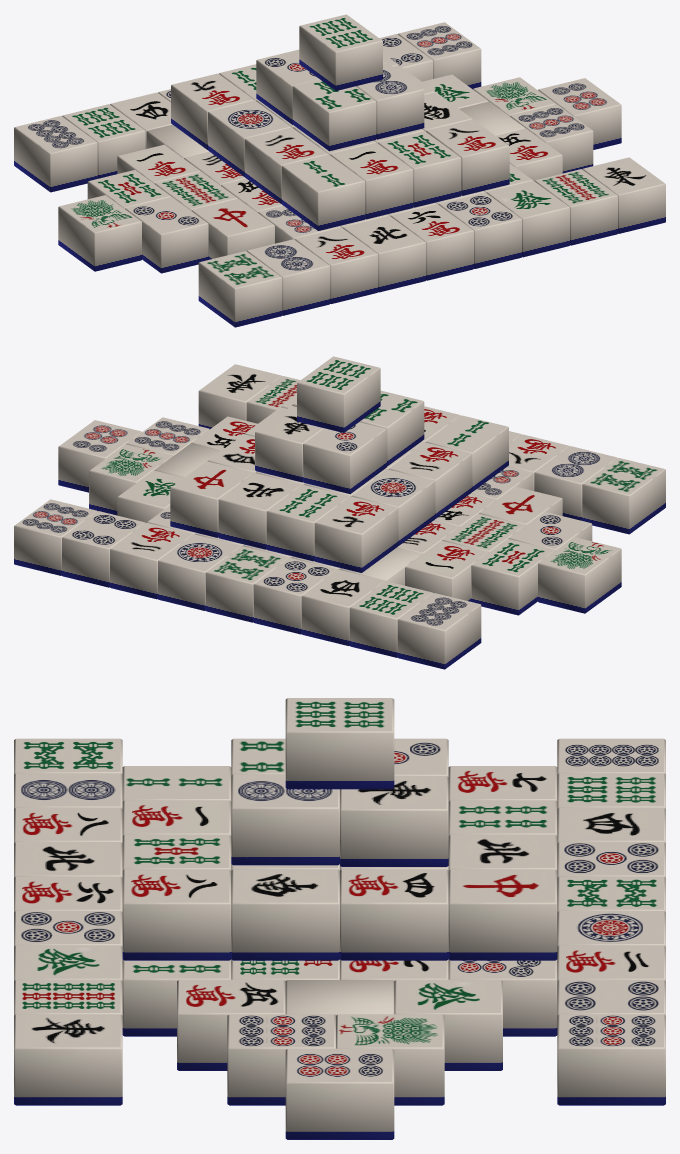
The model's file is MahjongPi_Blue_Shanghi.fbx.
The picture shows the model from 3 angles, top to bottom: view 1: azimuth 30°, elevation 25°; view 2: azimuth 150°, elevation 25°; view 3: azimuth 270°, elevation 25°; orthographic projection. The views are drawn at different scales.
Parts seen in each view (by area): view 1: JongPi_Sowzu8_B, JongPi_Sowzu2_B.001, JongPi_Sowzu6_B.002, JongPi_Sowzu1_B, JongPi_Pinzu8_B, JongPi_Sowzu3_B.002, JongPi_Pinzu3_B, JongPi_Manzu8_B.001, JongPi_Manzu8_B, JongPi_Manzu6_B, JongPi_Manzu1_B.001, JongPi_Pinzu2_B (+31 smaller); view 2: JongPi_Pinzu8_B, JongPi_Manzu7_B.001, JongPi_Sowzu6_B.002, JongPi_Sowzu1_B, JongPi_Sowzu8_B, JongPi_Pinzu3_B.001, JongPi_Sowzu5_B, JongPi_Etc_Center_B.001, JongPi_Etc_West_B, JongPi_Sowzu6_B, JongPi_Sowzu4_B.001, JongPi_Sowzu8_B.001 (+31 smaller); view 3: JongPi_Pinzu6_B.001, JongPi_Sowzu6_B.002, JongPi_Manzu8_B.001, JongPi_Etc_Center_B.001, JongPi_Manzu4_B.001, JongPi_Pinzu9_B, JongPi_Etc_East_B, JongPi_Etc_South_B.001, JongPi_Etc_East_B.001, JongPi_Pinzu2_B.001, JongPi_Etc_Hatsu_B.001, JongPi_Pinzu9_B.001 (+31 smaller).
Boxes of the visible parts, x1,y1,x2,y2 form: JongPi_Sowzu8_B: (198,251,282,327); JongPi_Sowzu2_B.001: (281,154,365,230); JongPi_Sowzu6_B.002: (299,14,382,90); JongPi_Sowzu1_B: (58,195,141,271); JongPi_Pinzu8_B: (14,116,97,192); JongPi_Sowzu3_B.002: (292,79,376,151); JongPi_Pinzu3_B: (125,197,208,273); JongPi_Manzu8_B.001: (426,119,509,195); JongPi_Manzu8_B: (294,227,378,303); JongPi_Manzu6_B: (390,204,474,280); JongPi_Manzu1_B.001: (330,142,413,219); JongPi_Pinzu2_B: (246,239,330,315); JongPi_Pinzu8_B: (397,593,481,669); JongPi_Manzu7_B.001: (314,496,398,572); JongPi_Sowzu6_B.002: (297,356,380,432); JongPi_Sowzu1_B: (538,537,621,613); JongPi_Sowzu8_B: (582,458,665,534); JongPi_Pinzu3_B.001: (303,422,386,493); JongPi_Sowzu5_B: (471,539,554,615); JongPi_Etc_Center_B.001: (170,461,253,537); JongPi_Etc_West_B: (301,569,385,645); JongPi_Sowzu6_B: (349,581,433,657); JongPi_Sowzu4_B.001: (266,484,349,561); JongPi_Sowzu8_B.001: (205,546,289,622); JongPi_Pinzu6_B.001: (285,1048,394,1139); JongPi_Sowzu6_B.002: (285,698,394,789); JongPi_Manzu8_B.001: (122,869,231,960); JongPi_Etc_Center_B.001: (448,869,557,960); JongPi_Manzu4_B.001: (340,869,448,960); JongPi_Pinzu9_B: (557,1014,665,1105); JongPi_Etc_East_B: (14,1014,122,1105); JongPi_Etc_South_B.001: (231,869,339,960); JongPi_Etc_East_B.001: (340,776,448,866); JongPi_Pinzu2_B.001: (231,774,339,865); JongPi_Etc_Hatsu_B.001: (394,979,502,1070); JongPi_Pinzu9_B.001: (227,1014,335,1105).
Size of the model in its own units: 23.1 by 6.75 by 16.8.
